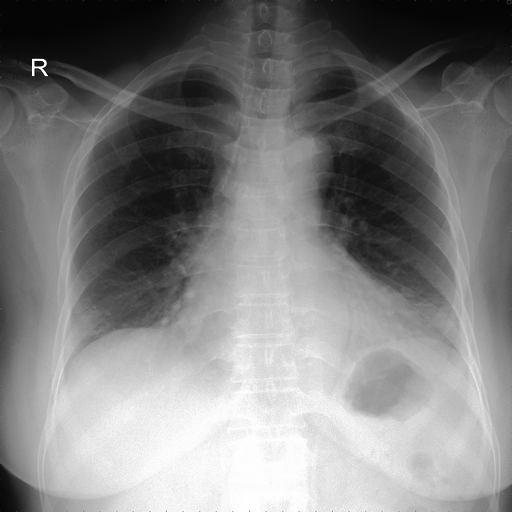Calcification: (139, 61, 210, 91), (302, 65, 380, 85)
Consolidation: (263, 124, 335, 206)
Nodule/Mass: (162, 268, 429, 355)
